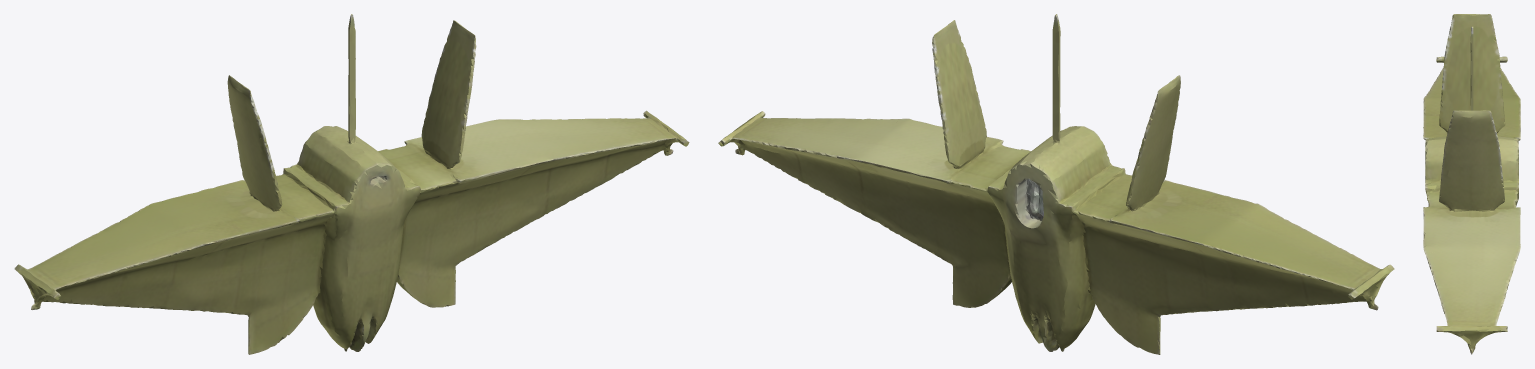
Rendered from centurion_wing_R.glb.
3 renders of one model, left to right at view 1: azimuth 30°, elevation 25°; view 2: azimuth 150°, elevation 25°; view 3: azimuth 270°, elevation 25°, orthographic. The views are drawn at different scales.
Visible parts, largest first — view 1: centurion_wing_R; view 2: centurion_wing_R; view 3: centurion_wing_R.
Part boxes in pixels (left/top/right/bottom): centurion_wing_R: left=14, top=14, right=689, bottom=354; centurion_wing_R: left=718, top=14, right=1394, bottom=354; centurion_wing_R: left=1423, top=14, right=1520, bottom=354.
Size of the model in its own units: 1.89 by 0.9463 by 0.2834.
Materials: 1 (1 with a texture image).
